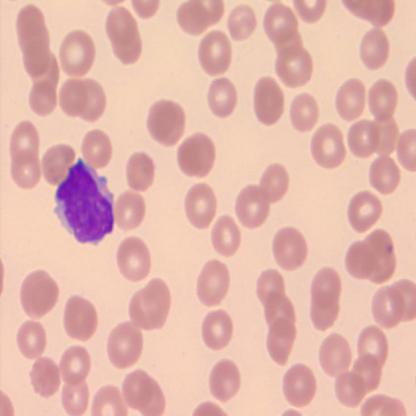Blast: (52, 154, 117, 250)
